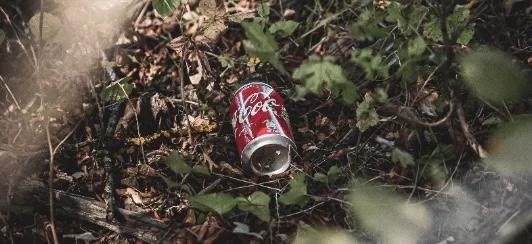metal: (228, 83, 297, 175)
